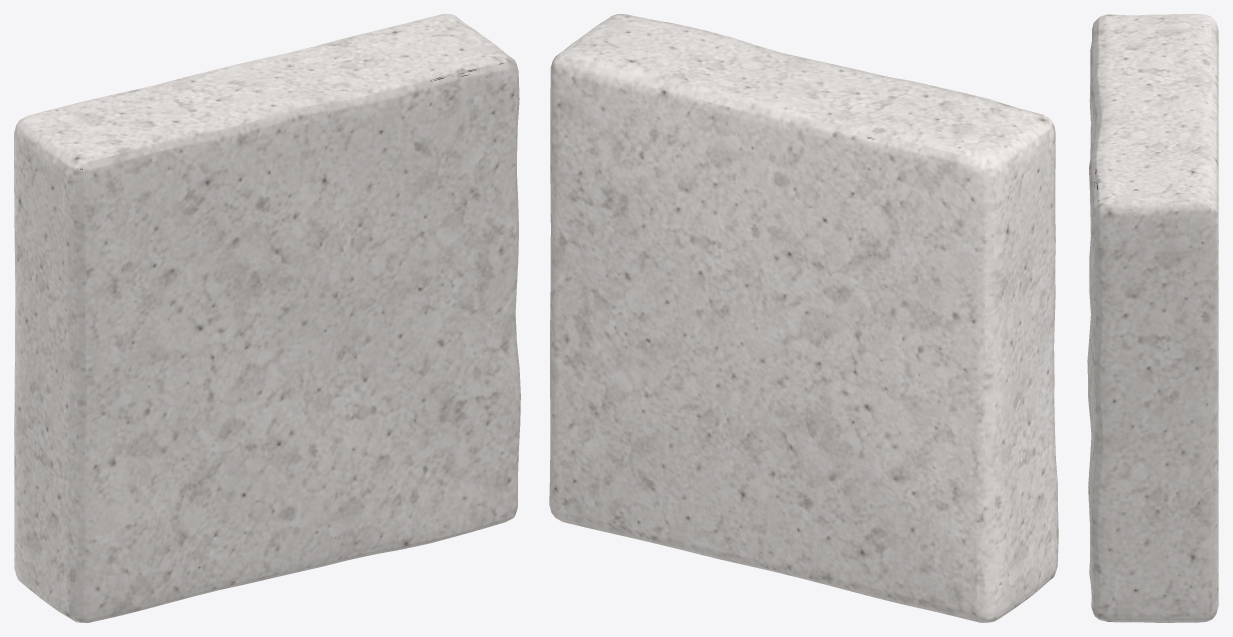
Rendered from tak-upright-white.glb.
The picture shows the model from 3 angles, left to right: view 1: azimuth 30°, elevation 25°; view 2: azimuth 150°, elevation 25°; view 3: azimuth 270°, elevation 25°; orthographic projection. The views are drawn at different scales.
Visible parts, largest first — view 1: tak-upright-white; view 2: tak-upright-white; view 3: tak-upright-white.
Boxes of the visible parts, <box> form: tak-upright-white: <box>14,14,520,622</box>; tak-upright-white: <box>549,14,1058,622</box>; tak-upright-white: <box>1087,14,1218,622</box>.
Size of the model in its own units: 0.0283 by 0.0283 by 0.0079.
Materials: 1 (1 with a texture image).
